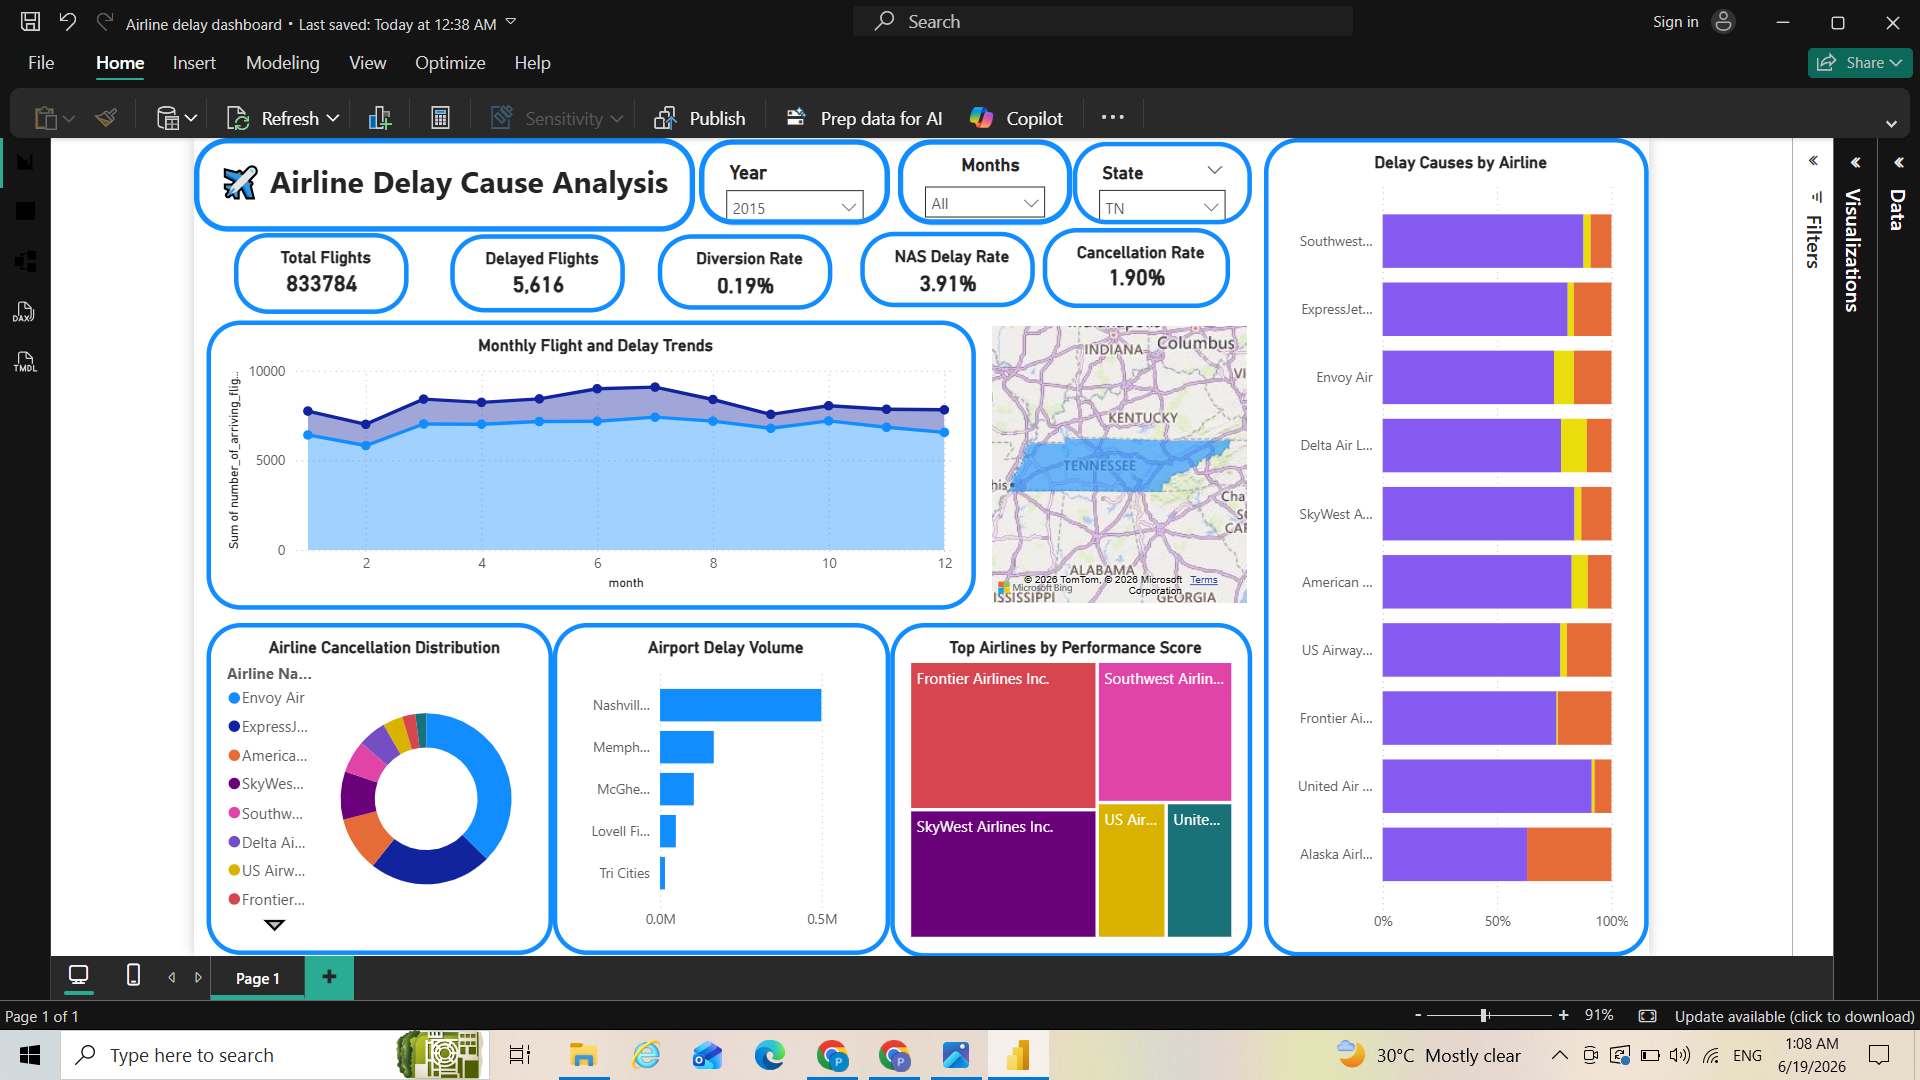

The dashboard page shown, as its layout file describes it:
{"tool":"powerbi","page":{"name":"Executive Overview","canvas":[1280,720],"ordinal":0},"visuals":[{"type":"slicer","title":"Year","fields":{"Values":["Airline_Delay_Cause_analysis.year"]},"box":[328,1.2,282,75.1],"z":0},{"type":"slicer","title":"State","fields":{"Values":["Airline_Delay_Cause_analysis. state "]},"box":[968.4,2.4,276,72.6],"z":1000},{"type":"slicer","title":"Months","fields":{"Values":["Airline_Delay_Cause_analysis.month"]},"box":[640.4,1.2,296.6,75.1],"z":2000},{"type":"kpi","title":"NAS Delay Rate","fields":{"Indicator":["Airline_Delay_Cause_analysis.NAS Delay Rate"],"TrendLine":["Airline_Delay_Cause_analysis.month"]},"box":[777.1,83.5,153.7,66.6],"z":3000},{"type":"kpi","title":"Diversion Rate","fields":{"Indicator":["Airline_Delay_Cause_analysis.Diversion Rate"],"TrendLine":["Airline_Delay_Cause_analysis.month"]},"box":[610.1,81.1,153.7,66.6],"z":4000},{"type":"kpi","title":"Security Delay Rate ","fields":{"TrendLine":["Airline_Delay_Cause_analysis.month"],"Indicator":["Airline_Delay_Cause_analysis.Security Delay Rate %"]},"box":[429.7,81.1,180.4,69],"z":5000},{"type":"textbox","box":[3.6,6.1,261.5,248.2],"z":6000},{"type":"treemap","title":"Delayed Flights by Airline","fields":{"Group":["Airline_Delay_Cause_analysis.Airline Name"],"Values":["Sum(Airline_Delay_Cause_analysis.late_aircraft_count)"]},"box":[443,424.4,494.2,291.9],"z":7000},{"type":"donutChart","title":"Airports with Highest Late Aircraft Delays","fields":{"Category":["Airline_Delay_Cause_analysis. airport_name"],"Y":["Sum(Airline_Delay_Cause_analysis.late_aircraft_count)"]},"box":[10.9,426.1,429.7,291.7],"z":8000},{"type":"kpi","title":"Total Flights","fields":{"TrendLine":["Airline_Delay_Cause_analysis.month"],"Indicator":["Sum(Airline_Delay_Cause_analysis.number_of_arriving_flights)"]},"box":[272.4,81.1,153.7,71.4],"z":9000},{"type":"filledMap","title":"State","fields":{"Category":["Airline_Delay_Cause_analysis. state "]},"box":[949.1,423.5,318.8,294.2],"z":10000},{"type":"kpi","title":"Cancellation Rate","fields":{"Indicator":["select","Airline_Delay_Cause_analysis.Cancellation Rate"],"TrendLine":["Airline_Delay_Cause_analysis.month"]},"box":[936.9,82.3,164.6,70.2],"z":11000},{"type":"stackedAreaChart","title":"Monthly Flight Operations","fields":{"Category":["Airline_Delay_Cause_analysis.month"],"Y":["Sum(Airline_Delay_Cause_analysis.number_of_arriving_flights)","Sum(Airline_Delay_Cause_analysis.late_aircraft_count)"]},"box":[272.4,157.4,993.8,254.2],"z":12000},{"type":"kpi","title":"Average Dalay Rate","fields":{"Indicator":["select","Airline_Delay_Cause_analysis.Average Delay Rate"],"TrendLine":["Airline_Delay_Cause_analysis.month"]},"box":[1101.6,83.5,164.6,70.2],"z":13000},{"type":"pageNavigator","box":[10.9,267.5,245.7,144],"z":14000}]}

Visuals, with their boxes on the page's 1280x720 design canvas (x1, y1, x2, y2). These are canvas units, not pixel positions in the 1920x1080 screenshot, which may show the page scaled, cropped or inside an application window:
"Year" slicer: bbox=[328, 1, 610, 76]
"State" slicer: bbox=[968, 2, 1244, 75]
"Months" slicer: bbox=[640, 1, 937, 76]
"NAS Delay Rate" kpi: bbox=[777, 84, 931, 150]
"Diversion Rate" kpi: bbox=[610, 81, 764, 148]
"Security Delay Rate " kpi: bbox=[430, 81, 610, 150]
textbox: bbox=[4, 6, 265, 254]
"Delayed Flights by Airline" treemap: bbox=[443, 424, 937, 716]
"Airports with Highest Late Aircraft Delays" donutChart: bbox=[11, 426, 441, 718]
"Total Flights" kpi: bbox=[272, 81, 426, 152]
"State" filledMap: bbox=[949, 424, 1268, 718]
"Cancellation Rate" kpi: bbox=[937, 82, 1102, 152]
"Monthly Flight Operations" stackedAreaChart: bbox=[272, 157, 1266, 412]
"Average Dalay Rate" kpi: bbox=[1102, 84, 1266, 154]
pageNavigator: bbox=[11, 268, 257, 412]
